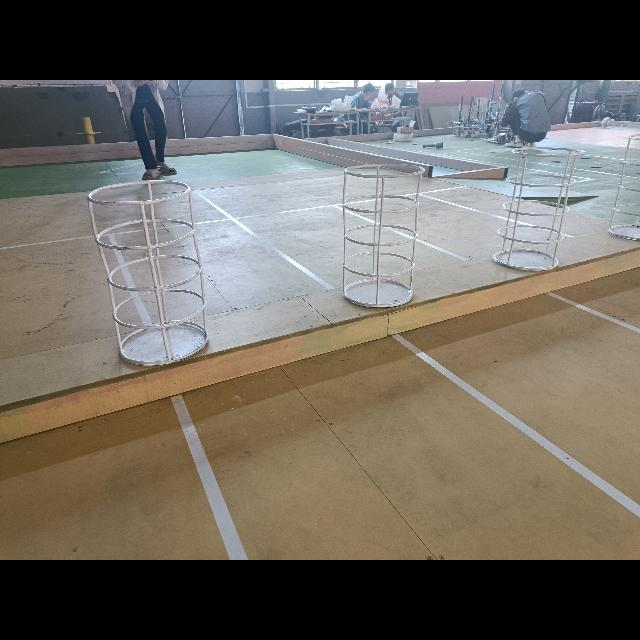S: (88, 180, 210, 367), (342, 164, 426, 308), (491, 146, 584, 272), (610, 136, 640, 241)
